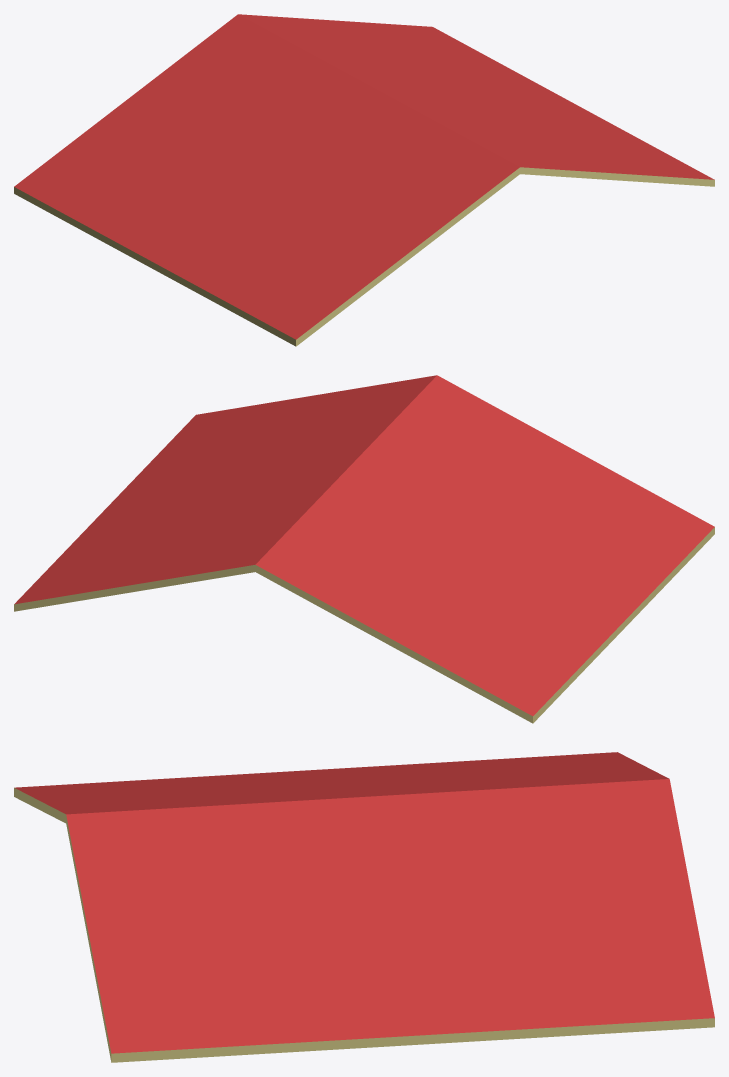
The picture shows the model from 3 angles, top to bottom: view 1: azimuth 30°, elevation 25°; view 2: azimuth 150°, elevation 25°; view 3: azimuth 270°, elevation 25°; orthographic projection. The views are drawn at different scales.
Size of the model in its own units: 7.7 by 6.9 by 1.52.
